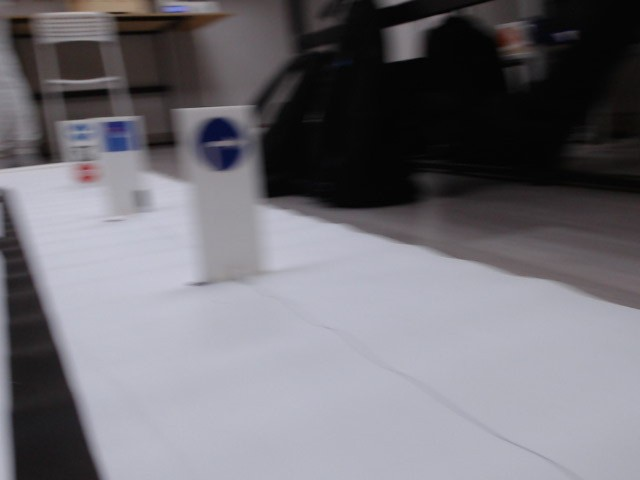Right: (194, 115, 244, 171)
